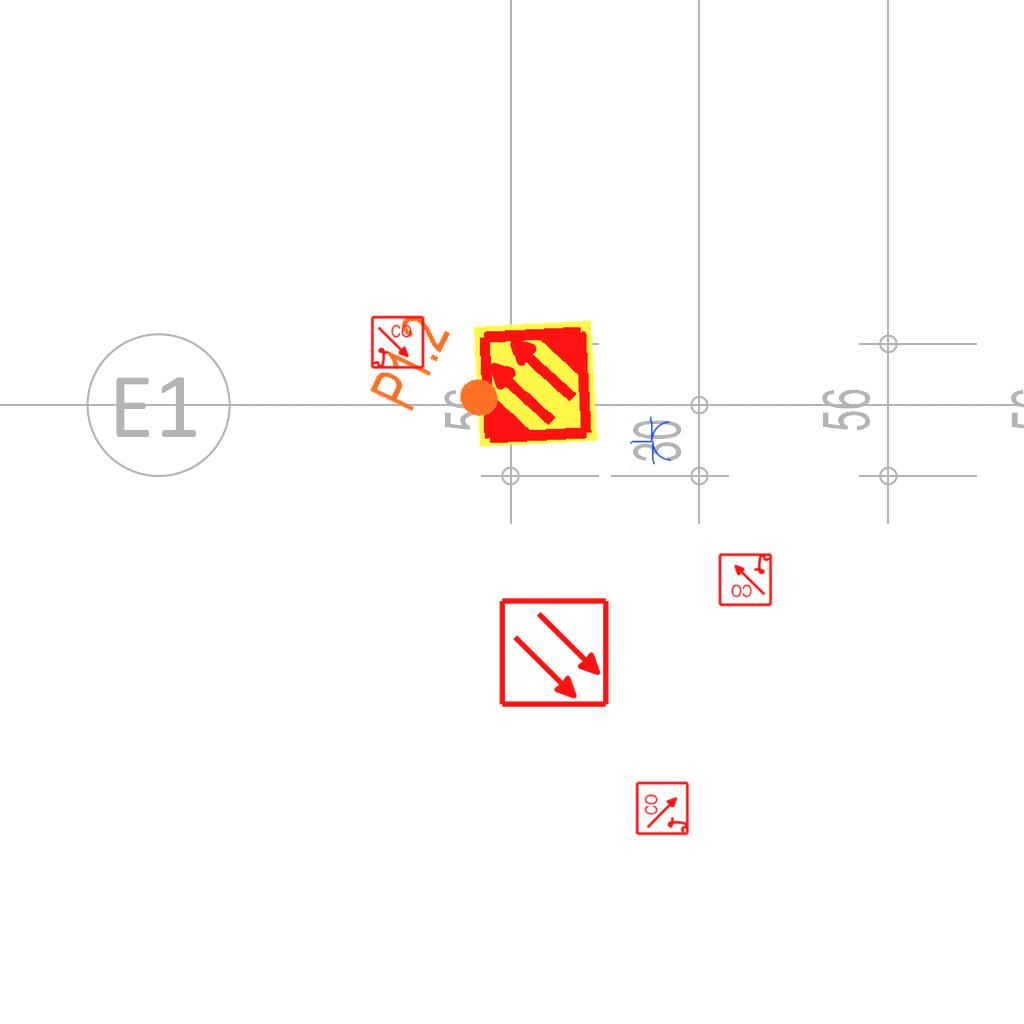ASR_Ansaugrauchmelder: (469, 317, 602, 450)
Downlight_LED_Einbauleuchten_Flur: (364, 308, 521, 448)
RMO_Rauchmelder_optischer: (498, 596, 611, 709)
ROA_Rauchmelder_optisch_mit_Signalgeber_(Sockelsirene): (717, 551, 773, 607), (635, 780, 691, 836), (370, 315, 426, 371)
Schukosteckdose_einfach: (628, 415, 674, 468)
